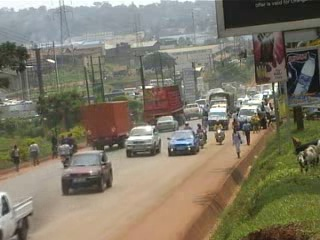Car: (52, 148, 119, 197), (121, 123, 162, 159), (165, 124, 200, 162), (151, 112, 180, 133)
Motorcycle: (57, 135, 75, 169), (195, 121, 210, 151), (212, 120, 227, 144), (196, 109, 209, 129), (181, 119, 194, 131)
